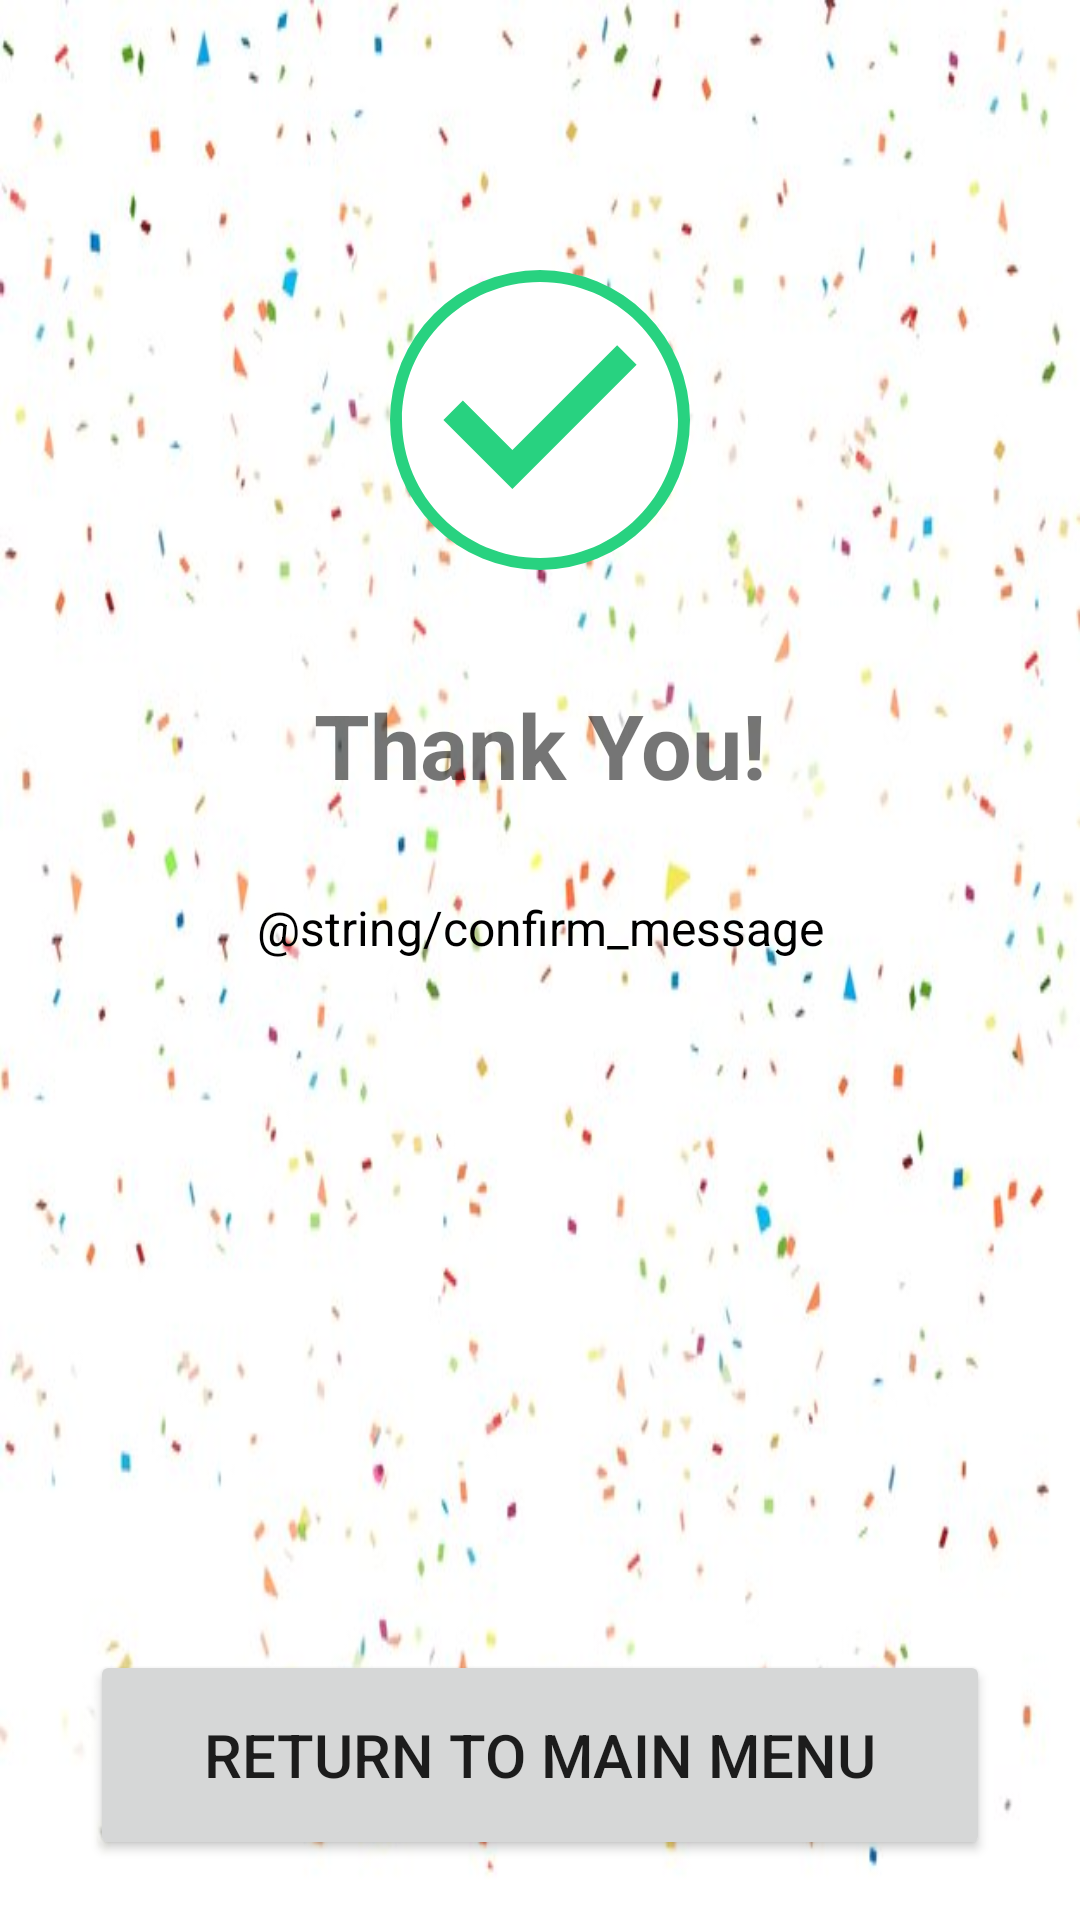

Icon click points for this 1080x1920 phone screenshot, format (x,y):
checkmark: (540,420)
